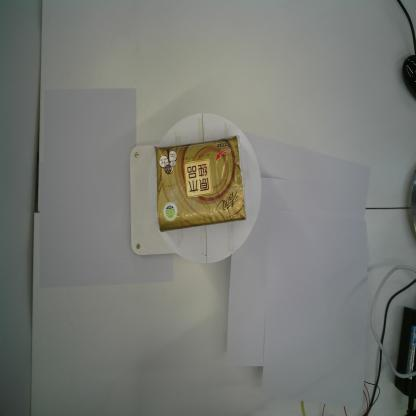Tissue: (153, 133, 247, 236)
